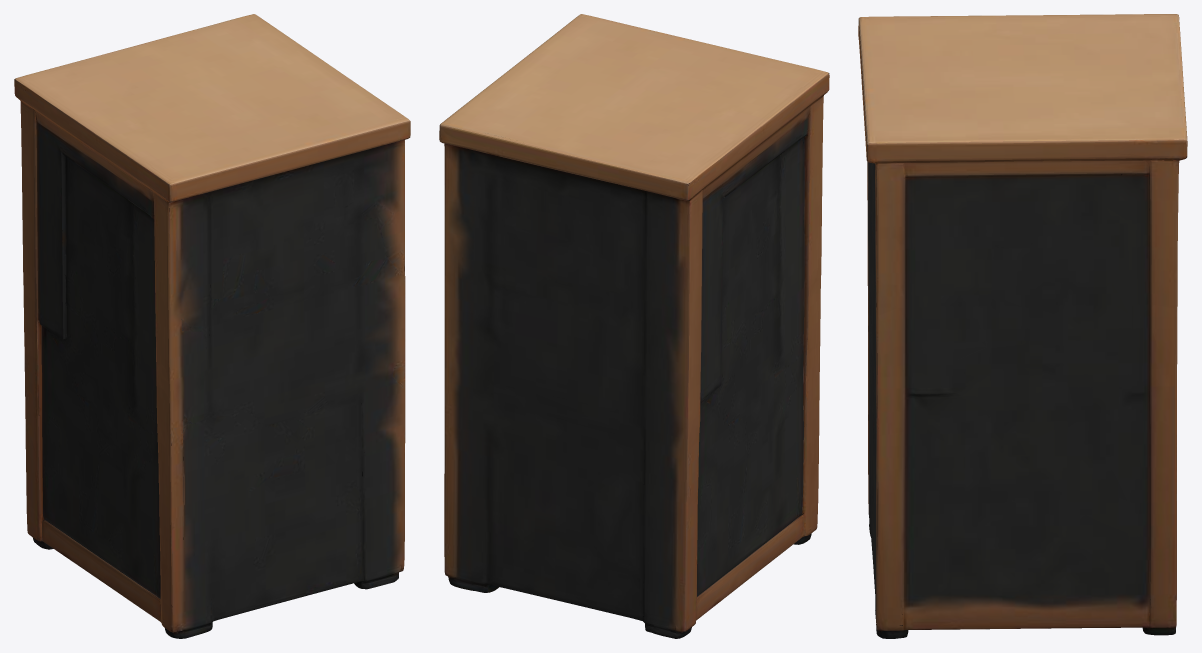
File: wooden_cabinet_partially_visible_in_the_bottom_left_000.glb
3 views of the same model, side by side, from view 1: azimuth 30°, elevation 25°; view 2: azimuth 150°, elevation 25°; view 3: azimuth 270°, elevation 25° (orthographic). The views are drawn at different scales.
Visible parts, largest first — view 1: phase2_final_wooden_cabinet_partially_visible_in_the_bottom_; view 2: phase2_final_wooden_cabinet_partially_visible_in_the_bottom_; view 3: phase2_final_wooden_cabinet_partially_visible_in_the_bottom_.
Boxes of the visible parts, x1,y1,x2,y2 form: phase2_final_wooden_cabinet_partially_visible_in_the_bottom_: (14, 14, 410, 638); phase2_final_wooden_cabinet_partially_visible_in_the_bottom_: (439, 14, 829, 638); phase2_final_wooden_cabinet_partially_visible_in_the_bottom_: (858, 14, 1187, 638).
Bounding box in the file's own units: 0.1151 × 0.2028 × 0.1206.
Materials: 1 (1 with a texture image).
